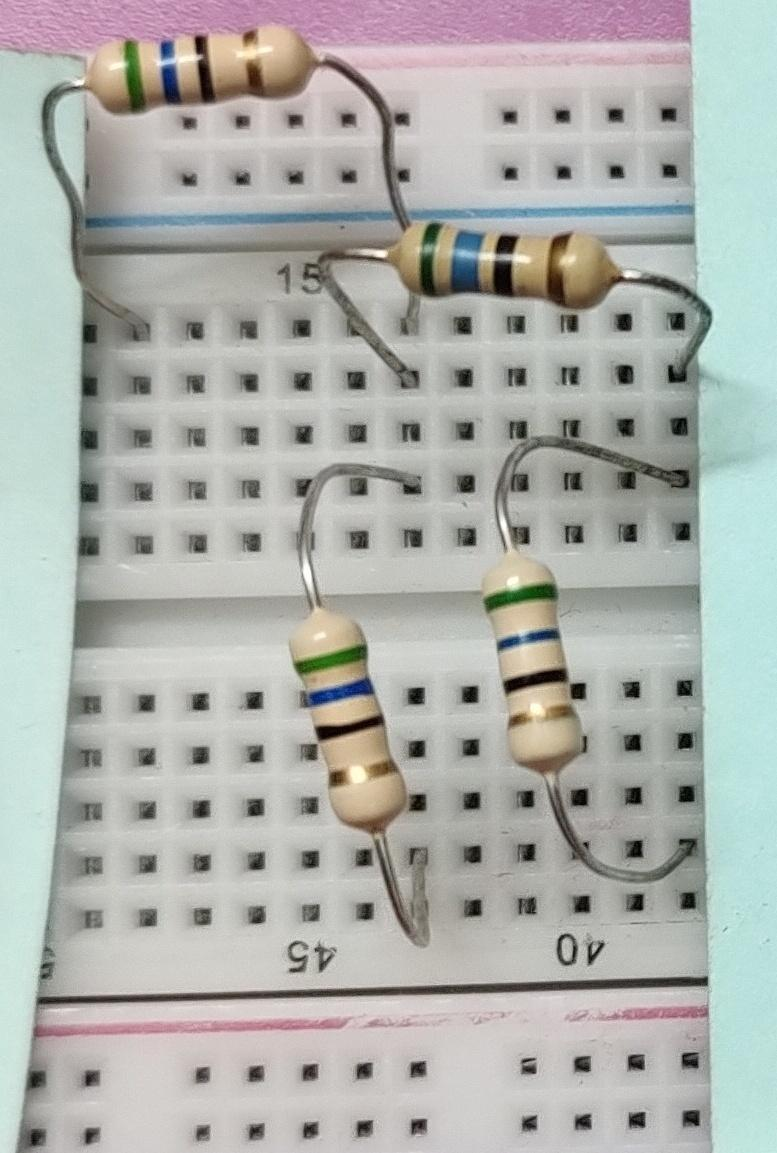resistor: (273, 603, 438, 849), (461, 538, 611, 780), (388, 216, 636, 314), (71, 21, 326, 115)
